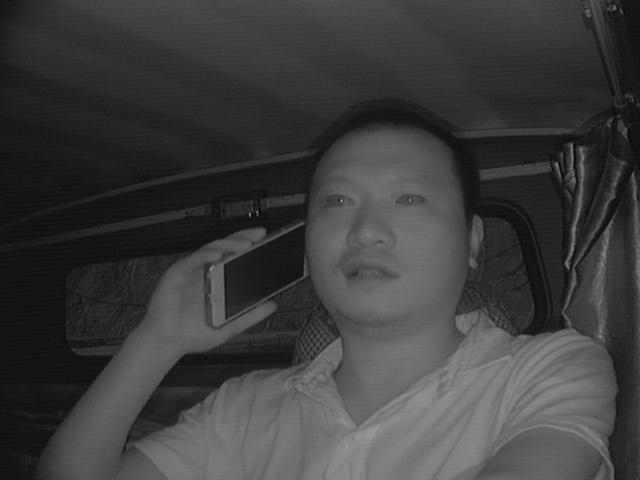hand: (166, 228, 274, 364)
